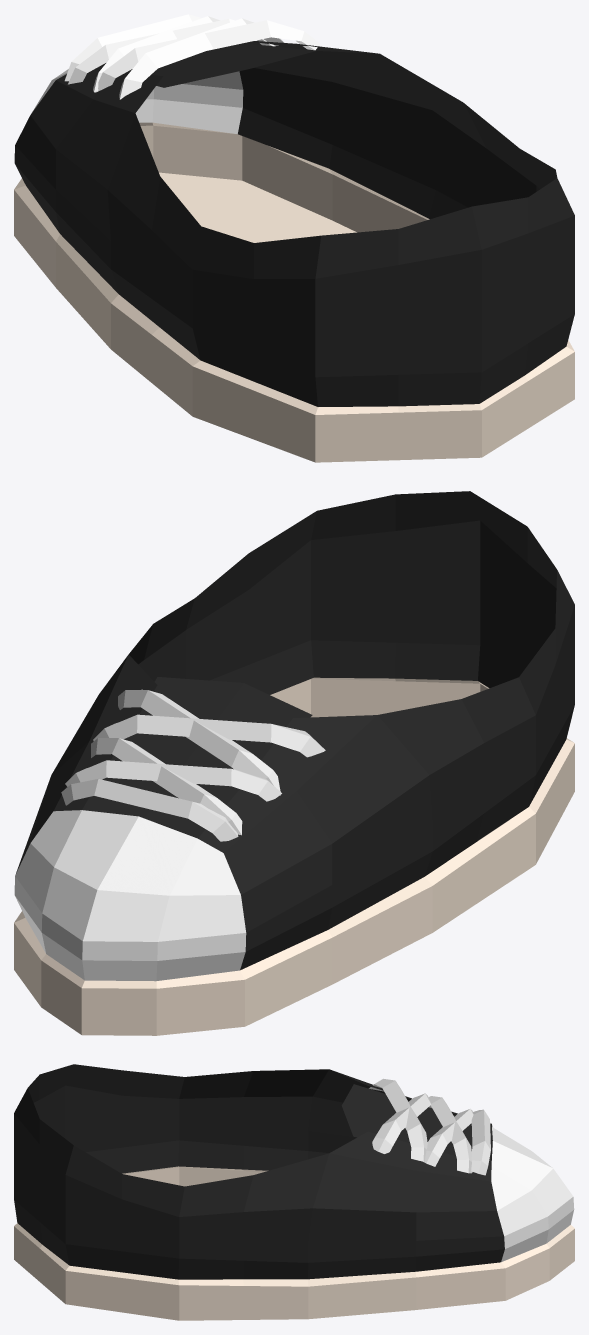
File: sneakersleft.fbx
3 renders of one model, top to bottom at view 1: azimuth 30°, elevation 25°; view 2: azimuth 150°, elevation 25°; view 3: azimuth 270°, elevation 25°, orthographic. The views are drawn at different scales.
Visible parts, largest first — view 1: left.001; view 2: left.001; view 3: left.001.
Boxes of the visible parts, x1,y1,x2,y2 form: left.001: [14, 14, 574, 462]; left.001: [14, 491, 574, 1035]; left.001: [14, 1064, 574, 1320].
Size of the model in its own units: 44.79 by 15.46 by 22.33.
